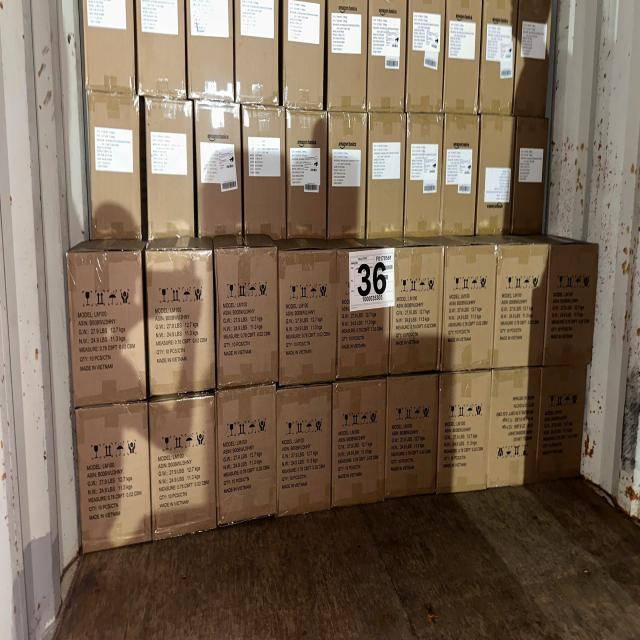Carton: (65, 251, 145, 404), (74, 406, 151, 548), (144, 251, 216, 394), (149, 396, 219, 530), (216, 246, 282, 383), (218, 388, 280, 518), (278, 248, 338, 381), (274, 390, 330, 517), (336, 250, 390, 378), (334, 382, 387, 502), (392, 249, 442, 376), (442, 246, 493, 370), (495, 247, 544, 369), (441, 373, 492, 490), (388, 376, 438, 494), (547, 246, 595, 368), (490, 370, 538, 487), (542, 368, 587, 482)
